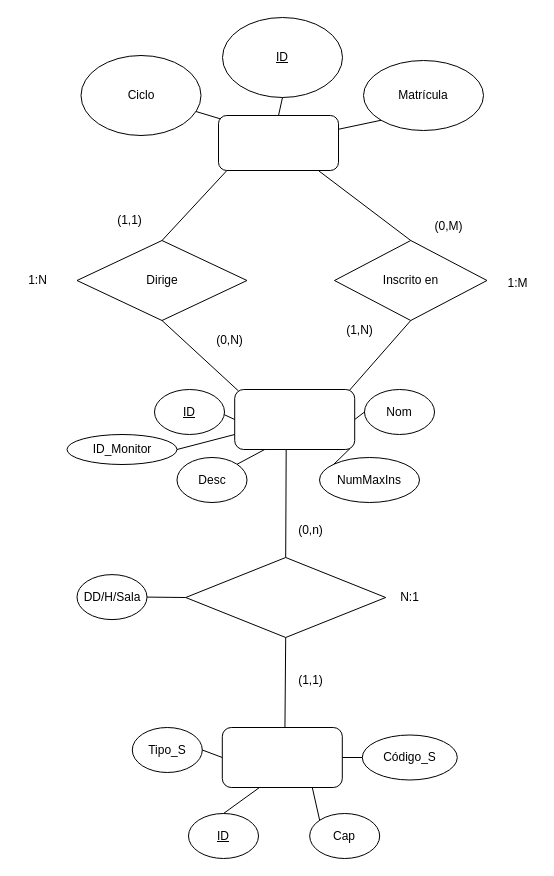
Some shapes in this 554 by 876 pixel diagram are drawn without their labels. Here are the shapes that lost their labels. From the top down, the centre of each, then its label:
(278,142): Usuarios
(294,419): Actividades
(285,597): Realizan
(281,757): Salas
